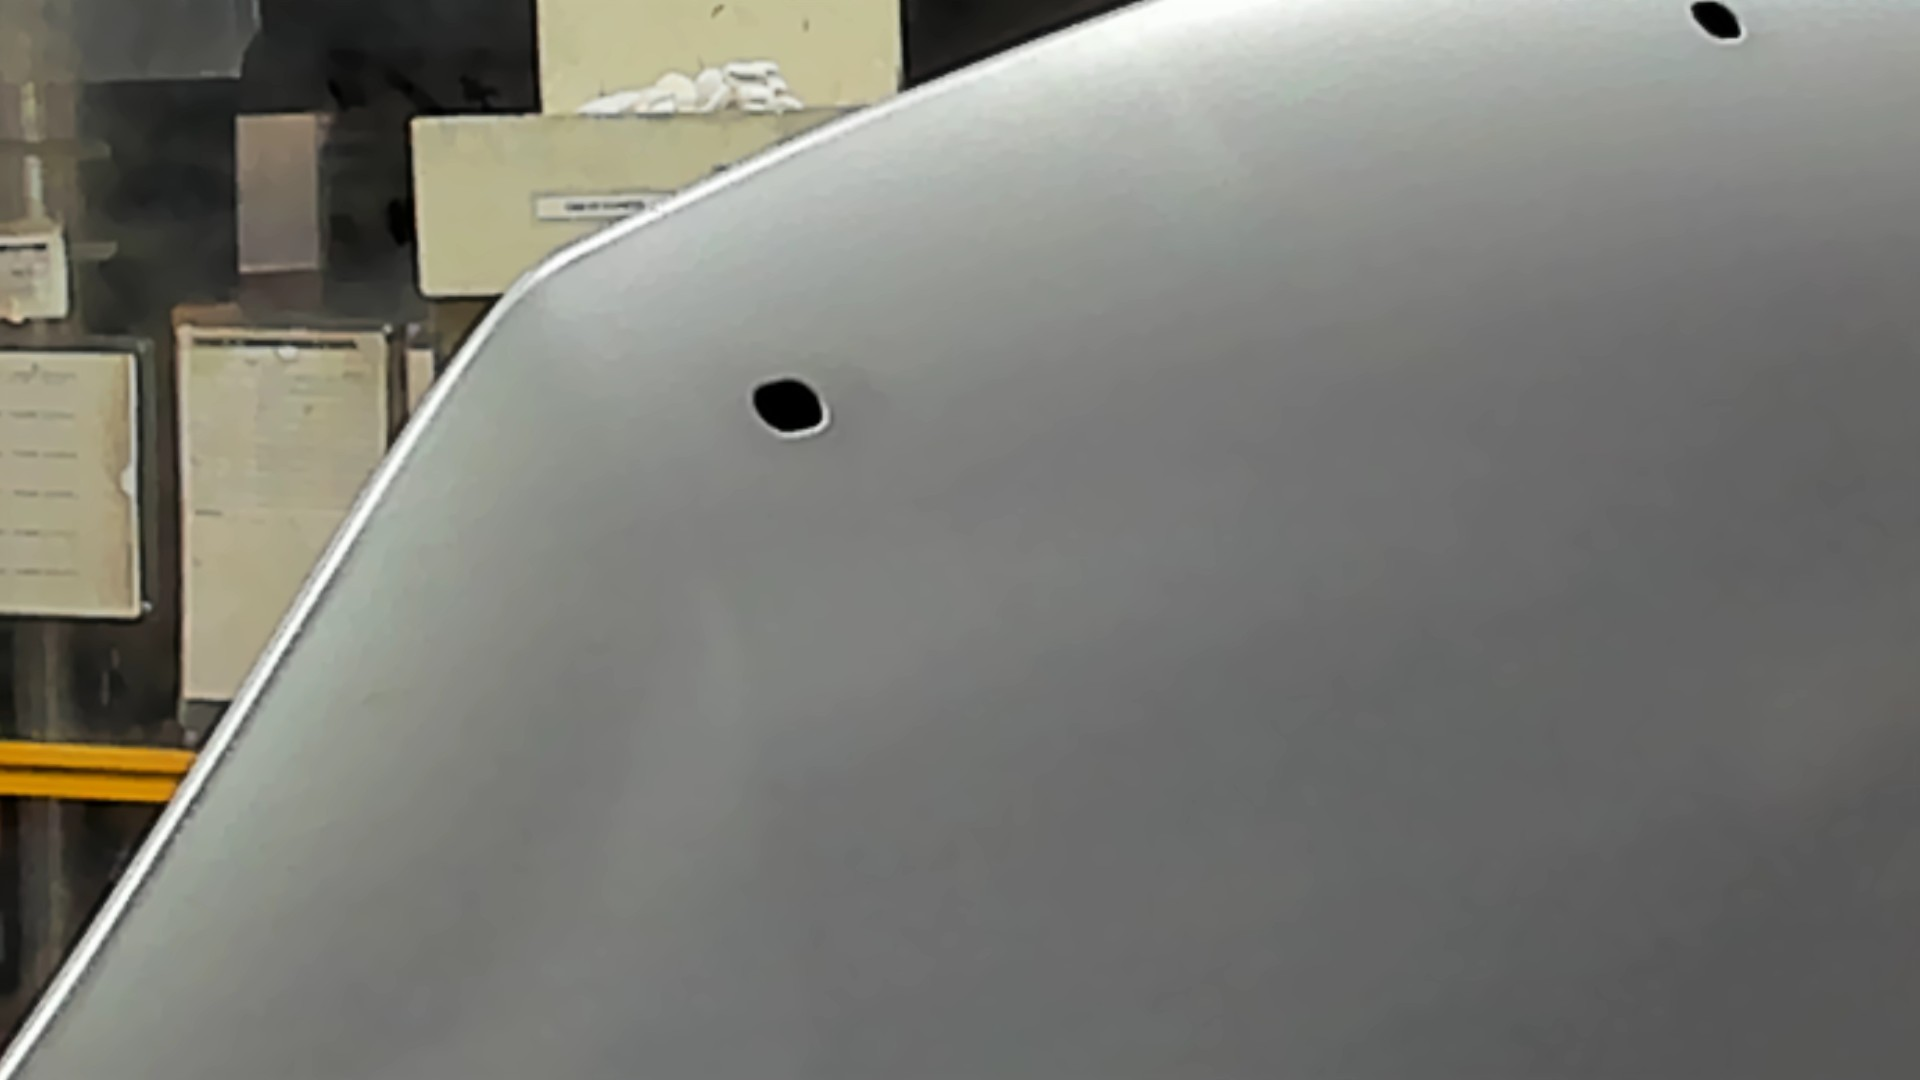amorfo: (742, 367, 837, 444), (1677, 1, 1754, 50)
